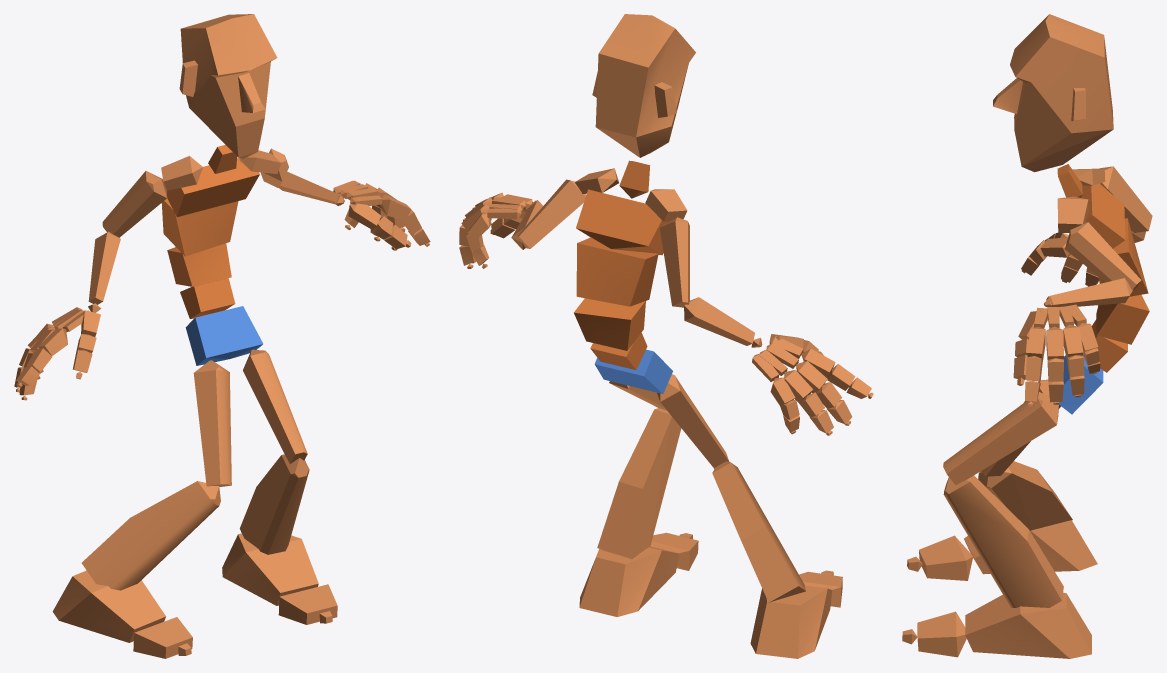
The model's file is prueba295.obj.
3 views of the same model, side by side, from view 1: azimuth 30°, elevation 25°; view 2: azimuth 150°, elevation 25°; view 3: azimuth 270°, elevation 25° (orthographic). The views are drawn at different scales.
Visible parts, largest first — view 1: BOPED_Head, BOPED_R_leg, BOPED_R_foot, BOPED_L_leg, BOPED_R_foot01, BOPED_R_legup, Bone01, BOPED_L_legup, Bone04, Bone05, BOPED_R_arm_upper, Bone03 (+8 smaller); view 2: BOPED_Head, BOPED_L_leg, BOPED_R_leg, BOPED_R_foot01, BOPED_R_foot, Bone04, Bone05, Bone03, BOPED_R_legup, BOPED_R_arm_upper, BOPED_L_arm_upper, Bone01 (+7 smaller); view 3: BOPED_Head, BOPED_L_leg, BOPED_R_foot01, BOPED_L_legup, BOPED_R_leg, BOPED_R_foot, BOPED_L_arm_upper, Bone03, Bone05, BOPED_R_foot_toe01, BOPED_R_foot_toe04, BOPED_L_arm_fore (+15 smaller).
Boxes of the visible parts, bbox=[...] form: BOPED_Head: bbox=[179, 14, 277, 158]; BOPED_R_leg: bbox=[81, 481, 220, 590]; BOPED_R_foot: bbox=[52, 570, 165, 642]; BOPED_L_leg: bbox=[239, 454, 309, 554]; BOPED_R_foot01: bbox=[222, 533, 318, 605]; BOPED_R_legup: bbox=[193, 360, 231, 486]; Bone01: bbox=[185, 306, 263, 365]; BOPED_L_legup: bbox=[243, 349, 307, 463]; Bone04: bbox=[161, 198, 238, 256]; Bone05: bbox=[167, 157, 259, 216]; BOPED_R_arm_upper: bbox=[102, 171, 167, 237]; Bone03: bbox=[167, 243, 231, 286]; BOPED_Head: bbox=[592, 14, 695, 157]; BOPED_L_leg: bbox=[597, 408, 681, 558]; BOPED_R_leg: bbox=[712, 461, 805, 602]; BOPED_R_foot01: bbox=[579, 546, 679, 616]; BOPED_R_foot: bbox=[750, 585, 832, 658]; Bone04: bbox=[576, 237, 658, 306]; Bone05: bbox=[576, 189, 669, 255]; Bone03: bbox=[574, 298, 645, 350]; BOPED_R_legup: bbox=[657, 374, 729, 468]; BOPED_R_arm_upper: bbox=[659, 217, 689, 307]; BOPED_L_arm_upper: bbox=[517, 179, 586, 248]; Bone01: bbox=[594, 349, 672, 393]; BOPED_Head: bbox=[993, 14, 1113, 172]; BOPED_L_leg: bbox=[943, 475, 1063, 607]; BOPED_R_foot01: bbox=[965, 592, 1091, 658]; BOPED_L_legup: bbox=[943, 392, 1058, 484]; BOPED_R_leg: bbox=[978, 461, 1072, 530]; BOPED_R_foot: bbox=[964, 520, 1097, 574]; BOPED_L_arm_upper: bbox=[1065, 222, 1141, 291]; Bone03: bbox=[1096, 294, 1149, 344]; Bone05: bbox=[1081, 183, 1125, 248]; BOPED_R_foot_toe01: bbox=[919, 535, 973, 580]; BOPED_R_foot_toe04: bbox=[917, 611, 966, 657]; BOPED_L_arm_fore: bbox=[1046, 278, 1133, 306].
Bounding box in the file's own units: 130 × 175 × 65.09.
